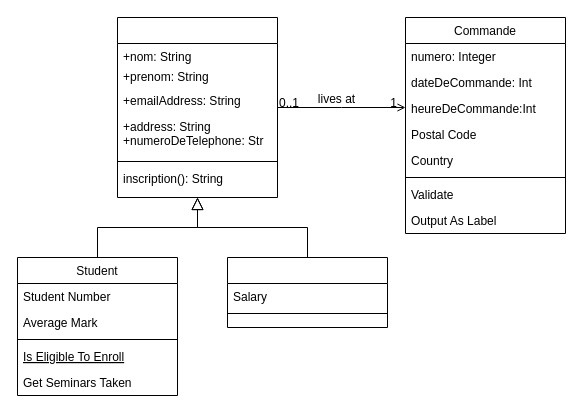
Image size: 583x416. Some labels were removed from this diagram. Here are the shapes that lost their labels. From the top down, the box of each, then its label:
(116, 16, 278, 198): Acheteur
(226, 256, 388, 328): Professor
